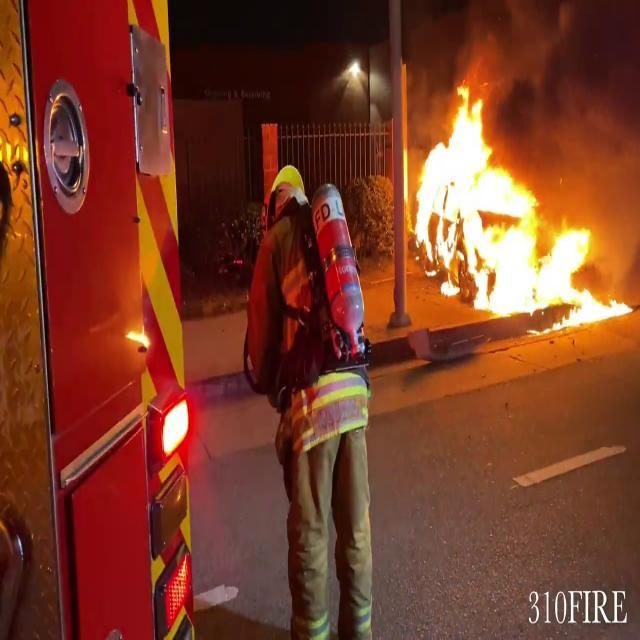Fire: (409, 78, 626, 324)
Smoke: (504, 0, 640, 244)
